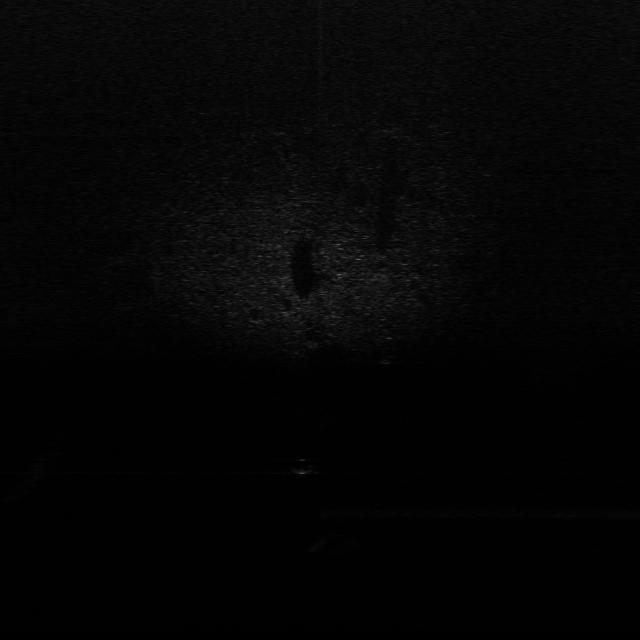ball: (286, 457, 316, 479)
square cage: (307, 533, 364, 556)
tyre: (379, 346, 408, 369)
